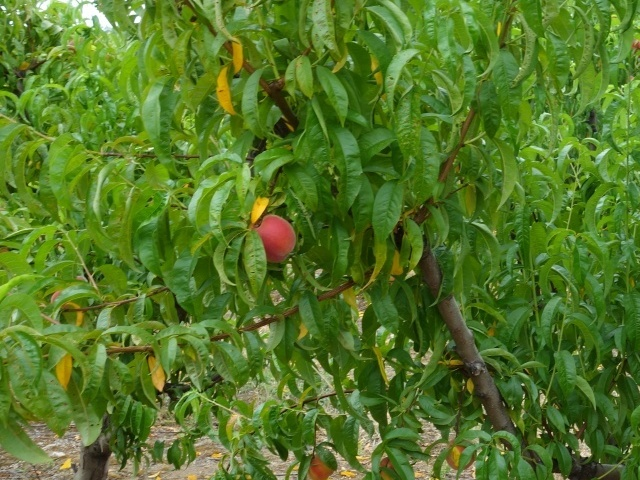peach: (241, 212, 300, 268), (441, 437, 480, 475), (304, 449, 335, 479), (375, 454, 398, 480)
